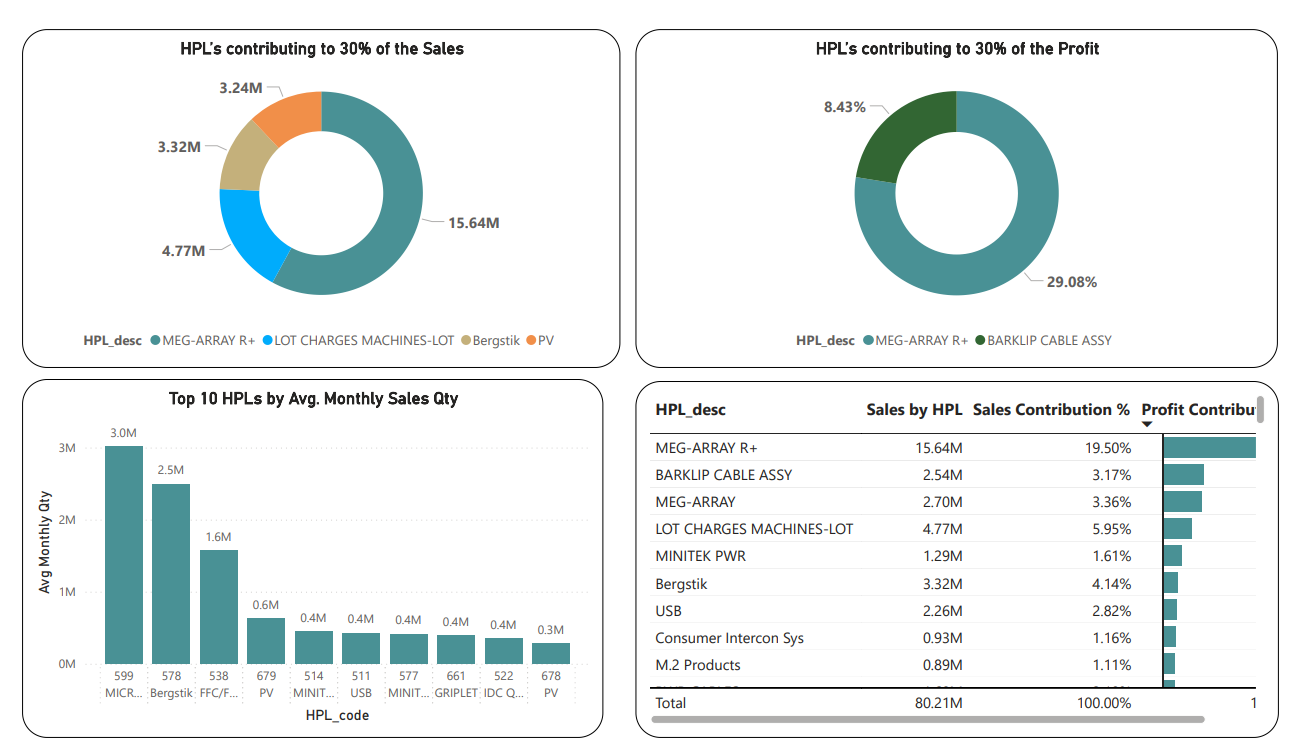

The page's visual inventory and layout, read from the dashboard file:
{"tool":"powerbi","page":{"name":"Page 3","canvas":[1280,720],"ordinal":3},"visuals":[{"type":"tableEx","title":"Sales by HPL with Sales % and Profit %","fields":{"Values":["amphenol hpl.HPL_desc","_Measuers.Sales by HPL","_Measuers.Sales Contribution %","_Measuers.Perofit Contribution %"]},"box":[544.3,420,695.7,300],"z":0},{"type":"donutChart","title":"HPL’s contributing to 30% of the Sales","fields":{"Category":["amphenol hpl.HPL_desc"],"Y":["_Measuers.Total Sales"]},"box":[14.3,100,518.6,305.7],"z":1000},{"type":"donutChart","title":"HPL’s contributing to 30% of the Profit","fields":{"Category":["amphenol hpl.HPL_desc"],"Y":["_Measuers.Perofit Contribution %"]},"box":[14.3,420,518.6,300],"z":2000},{"type":"clusteredColumnChart","title":"Top 10 HPLs by Avg. Monthly Sales Qty","fields":{"Category":["amphenol hpl.HPL_desc","amphenol hpl.HPL_code"],"Y":["_Measuers.Avg Monthly Qty"]},"box":[544.3,100,695.7,305.7],"z":3000},{"type":"shape","box":[10,12.9,17.1,61.4],"z":6000},{"type":"textbox","box":[40,22.9,417.1,51.4],"z":7000}]}

Visuals, with their boxes in screenshot pixels (x1, y1, x2, y2), scaled from the page's 1280x720 canvas onto the 1312x754 screenshot:
"Sales by HPL with Sales % and Profit %" tableEx: {"x1": 558, "y1": 440, "x2": 1271, "y2": 753}
"HPL’s contributing to 30% of the Sales" donutChart: {"x1": 15, "y1": 105, "x2": 546, "y2": 425}
"HPL’s contributing to 30% of the Profit" donutChart: {"x1": 15, "y1": 440, "x2": 546, "y2": 753}
"Top 10 HPLs by Avg. Monthly Sales Qty" clusteredColumnChart: {"x1": 558, "y1": 105, "x2": 1271, "y2": 425}
shape: {"x1": 10, "y1": 14, "x2": 28, "y2": 78}
textbox: {"x1": 41, "y1": 24, "x2": 469, "y2": 78}
